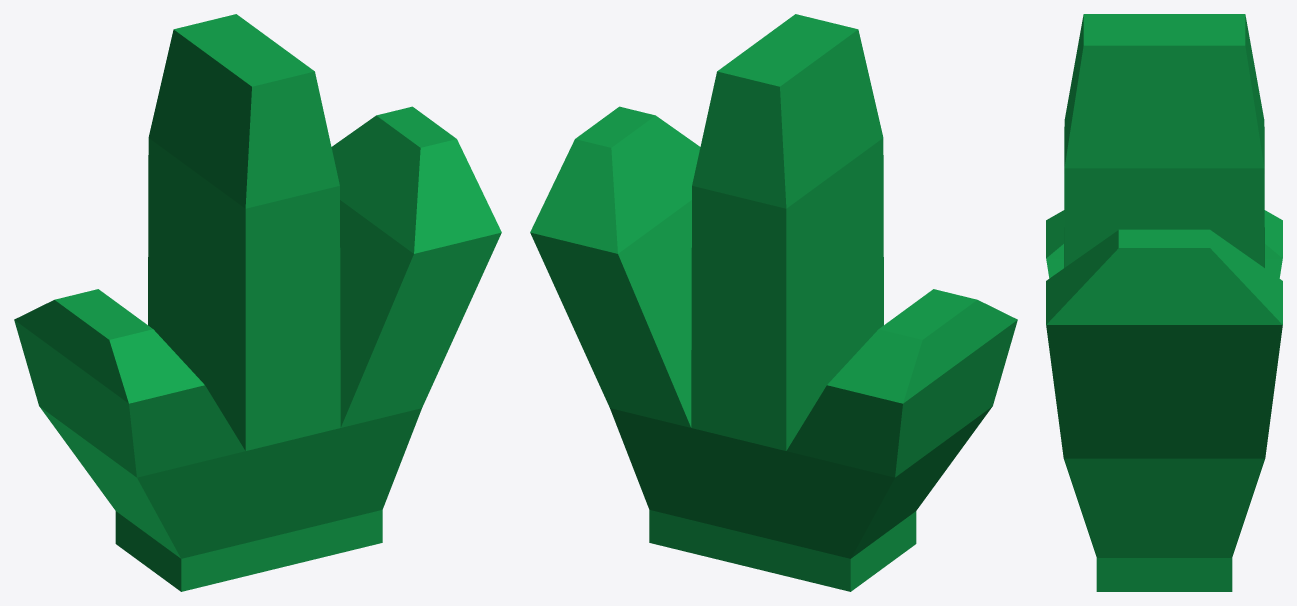
File: cacto.FBX
3 renders of one model, left to right at view 1: azimuth 30°, elevation 25°; view 2: azimuth 150°, elevation 25°; view 3: azimuth 270°, elevation 25°, orthographic. The views are drawn at different scales.
Parts seen in each view (by area): view 1: Box001; view 2: Box001; view 3: Box001.
Part boxes in pixels (x1,y1,x2,y2): Box001: (14,14,501,591); Box001: (530,14,1017,591); Box001: (1046,14,1282,591).
Size of the model in its own units: 26.75 by 33.87 by 14.27.
